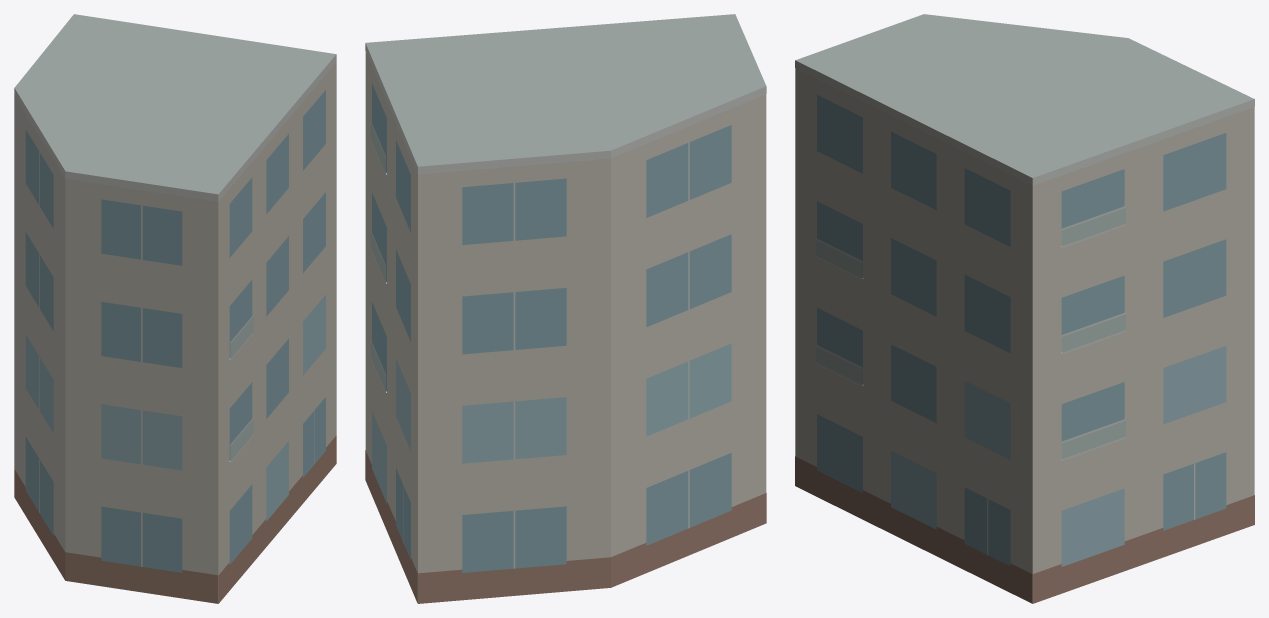
File: survey-upis-32523318.glb
The picture shows the model from 3 angles, left to right: view 1: azimuth 30°, elevation 25°; view 2: azimuth 150°, elevation 25°; view 3: azimuth 270°, elevation 25°; orthographic projection. The views are drawn at different scales.
Parts seen in each view (by area): view 1: survey-upis-32523318.tmp; view 2: survey-upis-32523318.tmp; view 3: survey-upis-32523318.tmp.
Boxes of the visible parts, x1,y1,x2,y2 form: survey-upis-32523318.tmp: (14, 14, 336, 603); survey-upis-32523318.tmp: (365, 14, 766, 603); survey-upis-32523318.tmp: (795, 14, 1254, 603).
Bounding box in the file's own units: 11.08 × 13.4 × 13.11.
